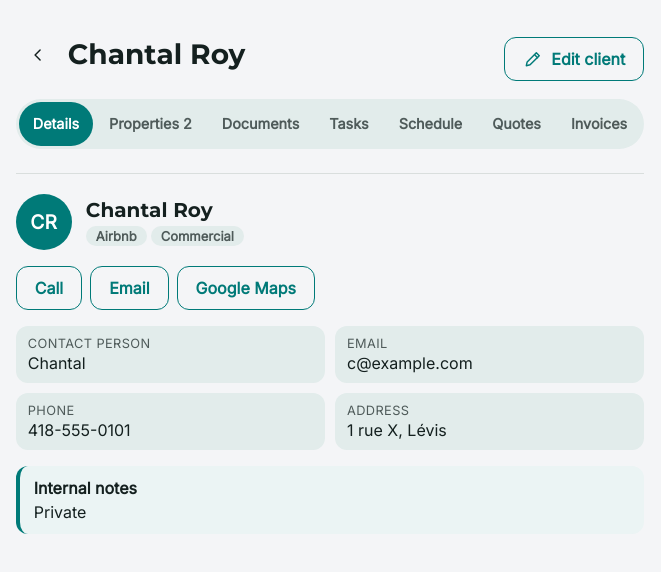
Test: properties › shows the price on the property card for an administrator
Click the radio button labelled "Properties 2" at (150, 124), box [95, 102, 206, 146]
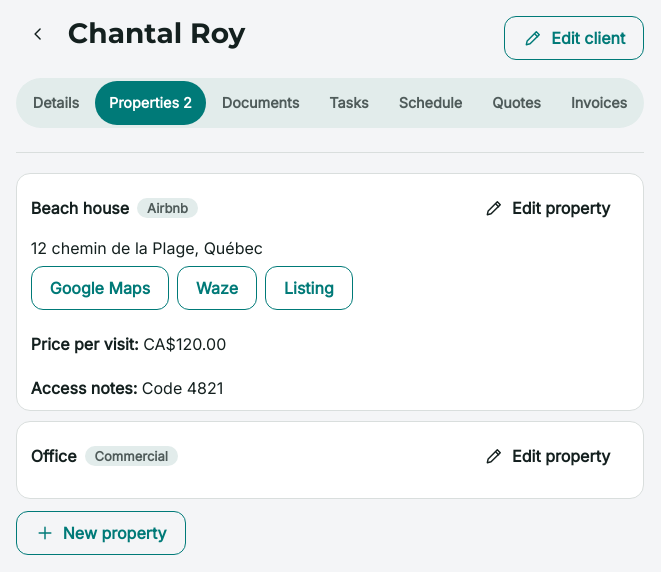
Expected: the text "Price per visit: CA$120.00" is shown, [31, 334, 226, 354]
